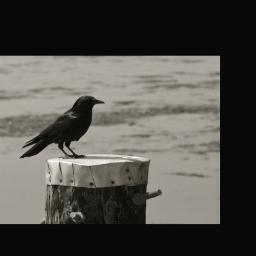Crow: (17, 93, 106, 162)
